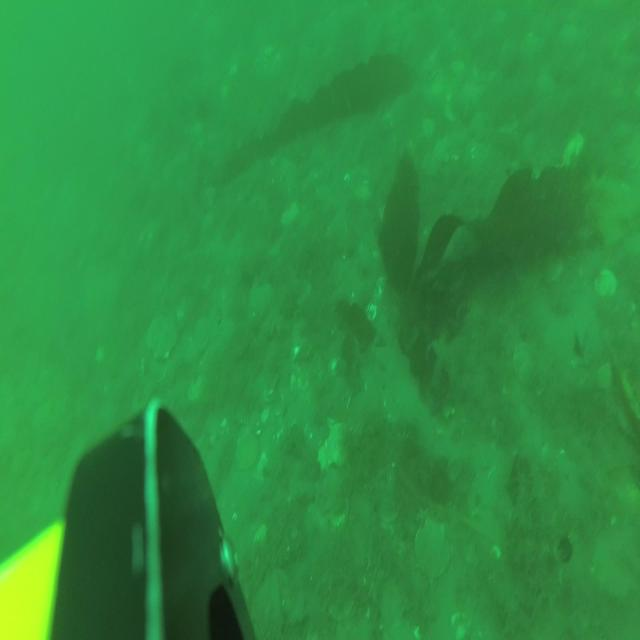scallop: (417, 514, 452, 580), (147, 318, 178, 367), (233, 430, 260, 471), (513, 337, 534, 382), (561, 134, 584, 174), (594, 269, 619, 303)
